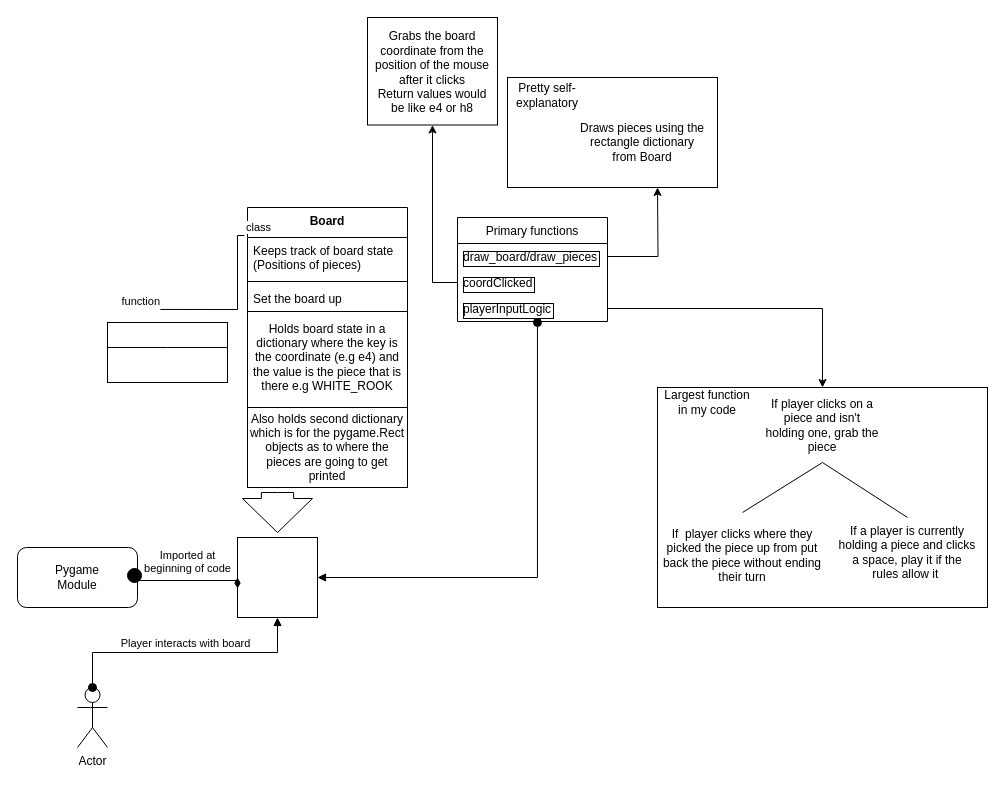
This 1005x786 diagram has some shape labels left out. Each missing label, with the centre of its shape:
Chess: [277,577]
Set Board Front Sets the board with all the pieces: [167,352]
